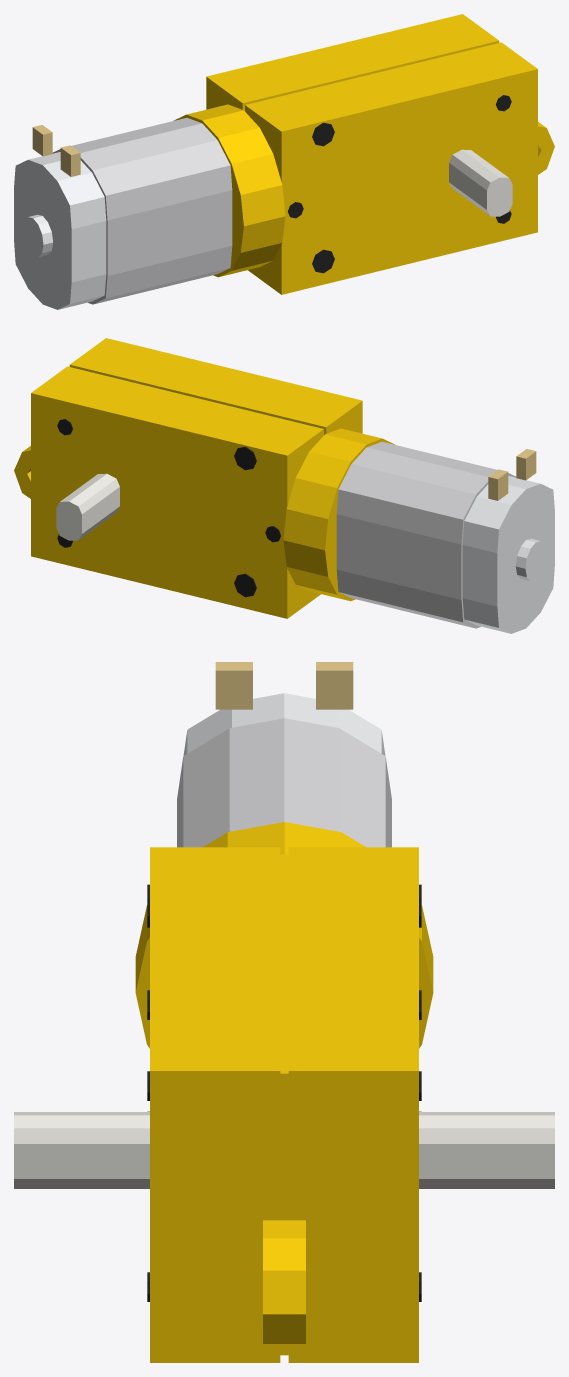
Rendered from tt_motor.glb.
3 views of the same model, one above another, from view 1: azimuth 30°, elevation 25°; view 2: azimuth 150°, elevation 25°; view 3: azimuth 270°, elevation 25° (orthographic). The views are drawn at different scales.
Parts seen in each view (by area): view 1: tt_motor_gearbox, tt_motor_motor, tt_motor_end_cap, tt_motor_shaft, tt_motor_holes, tt_motor_terminal_1, tt_motor_terminal_2; view 2: tt_motor_gearbox, tt_motor_motor, tt_motor_end_cap, tt_motor_shaft, tt_motor_holes, tt_motor_terminal_1, tt_motor_terminal_2; view 3: tt_motor_gearbox, tt_motor_motor, tt_motor_shaft, tt_motor_end_cap, tt_motor_terminal_1, tt_motor_terminal_2.
Part boxes in pixels (x1,y1,x2,y2): tt_motor_gearbox: (173,14,554,294); tt_motor_motor: (52,117,232,304); tt_motor_end_cap: (14,152,106,309); tt_motor_shaft: (449,149,512,216); tt_motor_holes: (288,95,511,273); tt_motor_terminal_1: (32,125,52,156); tt_motor_terminal_2: (60,145,80,176); tt_motor_gearbox: (14,338,395,618); tt_motor_motor: (336,441,516,628); tt_motor_end_cap: (462,476,554,633); tt_motor_shaft: (56,473,119,540); tt_motor_holes: (57,419,280,597); tt_motor_terminal_1: (488,469,508,500); tt_motor_terminal_2: (516,449,536,480); tt_motor_gearbox: (135,822,433,1362); tt_motor_motor: (177,718,391,847); tt_motor_shaft: (14,1112,554,1188); tt_motor_end_cap: (183,693,385,755); tt_motor_terminal_1: (316,662,353,709); tt_motor_terminal_2: (215,662,252,709).
Bounding box in the file's own units: 0.0744 × 0.0239 × 0.0378.
